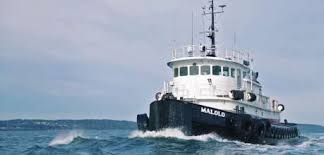tau_dansu: (144, 20, 304, 148)
